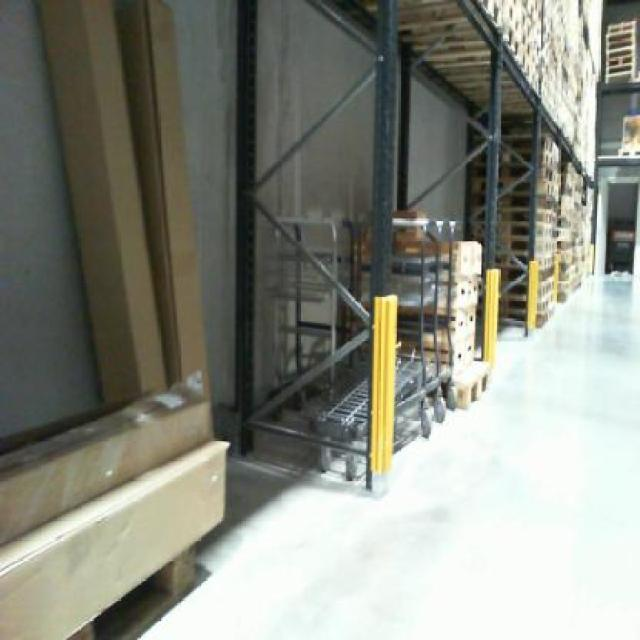pallet: (602, 6, 640, 87)
